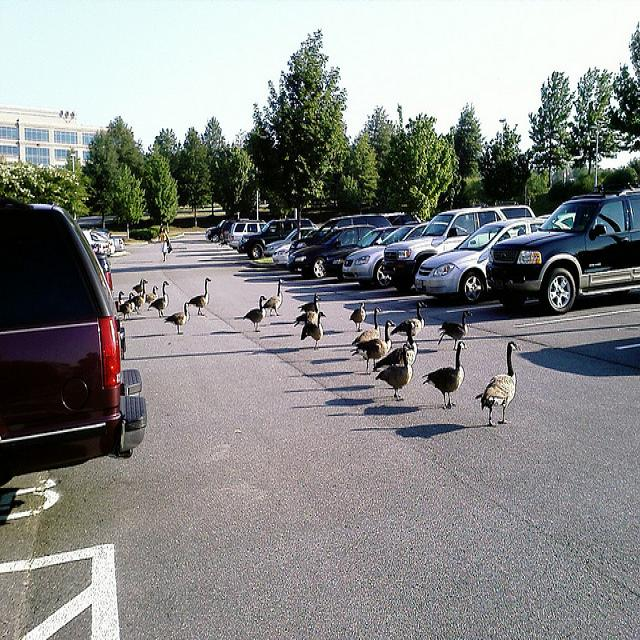Vehicle: (28, 193, 563, 271), (4, 195, 143, 482), (490, 181, 640, 309), (414, 217, 548, 306), (384, 208, 482, 294), (342, 223, 416, 291), (285, 225, 375, 280), (287, 212, 393, 257), (290, 214, 391, 254), (349, 226, 402, 251), (230, 220, 267, 250), (272, 230, 299, 269), (263, 228, 297, 256), (92, 253, 115, 289), (204, 218, 237, 242)
